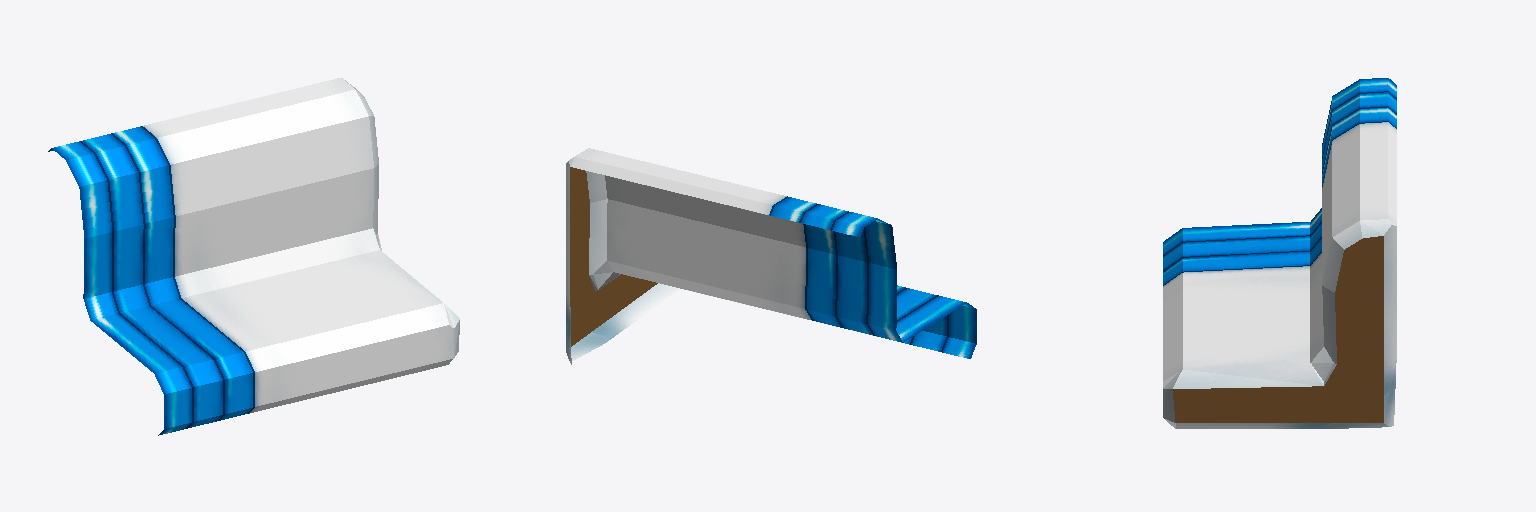
3 views of the same model, side by side, from view 1: azimuth 30°, elevation 25°; view 2: azimuth 150°, elevation 25°; view 3: azimuth 270°, elevation 25° (orthographic).
Size of the model in its own units: 4.79 by 3.19 by 3.22.
Materials: 2 (1 with a texture image).